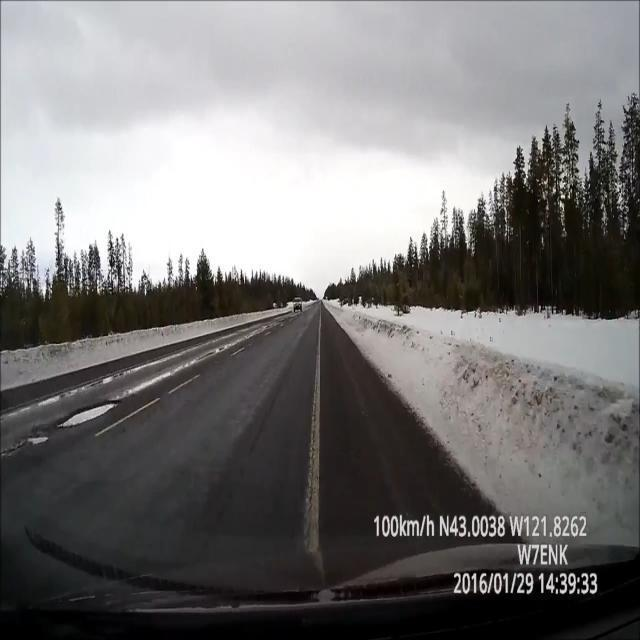Pothole: (58, 404, 116, 427)
